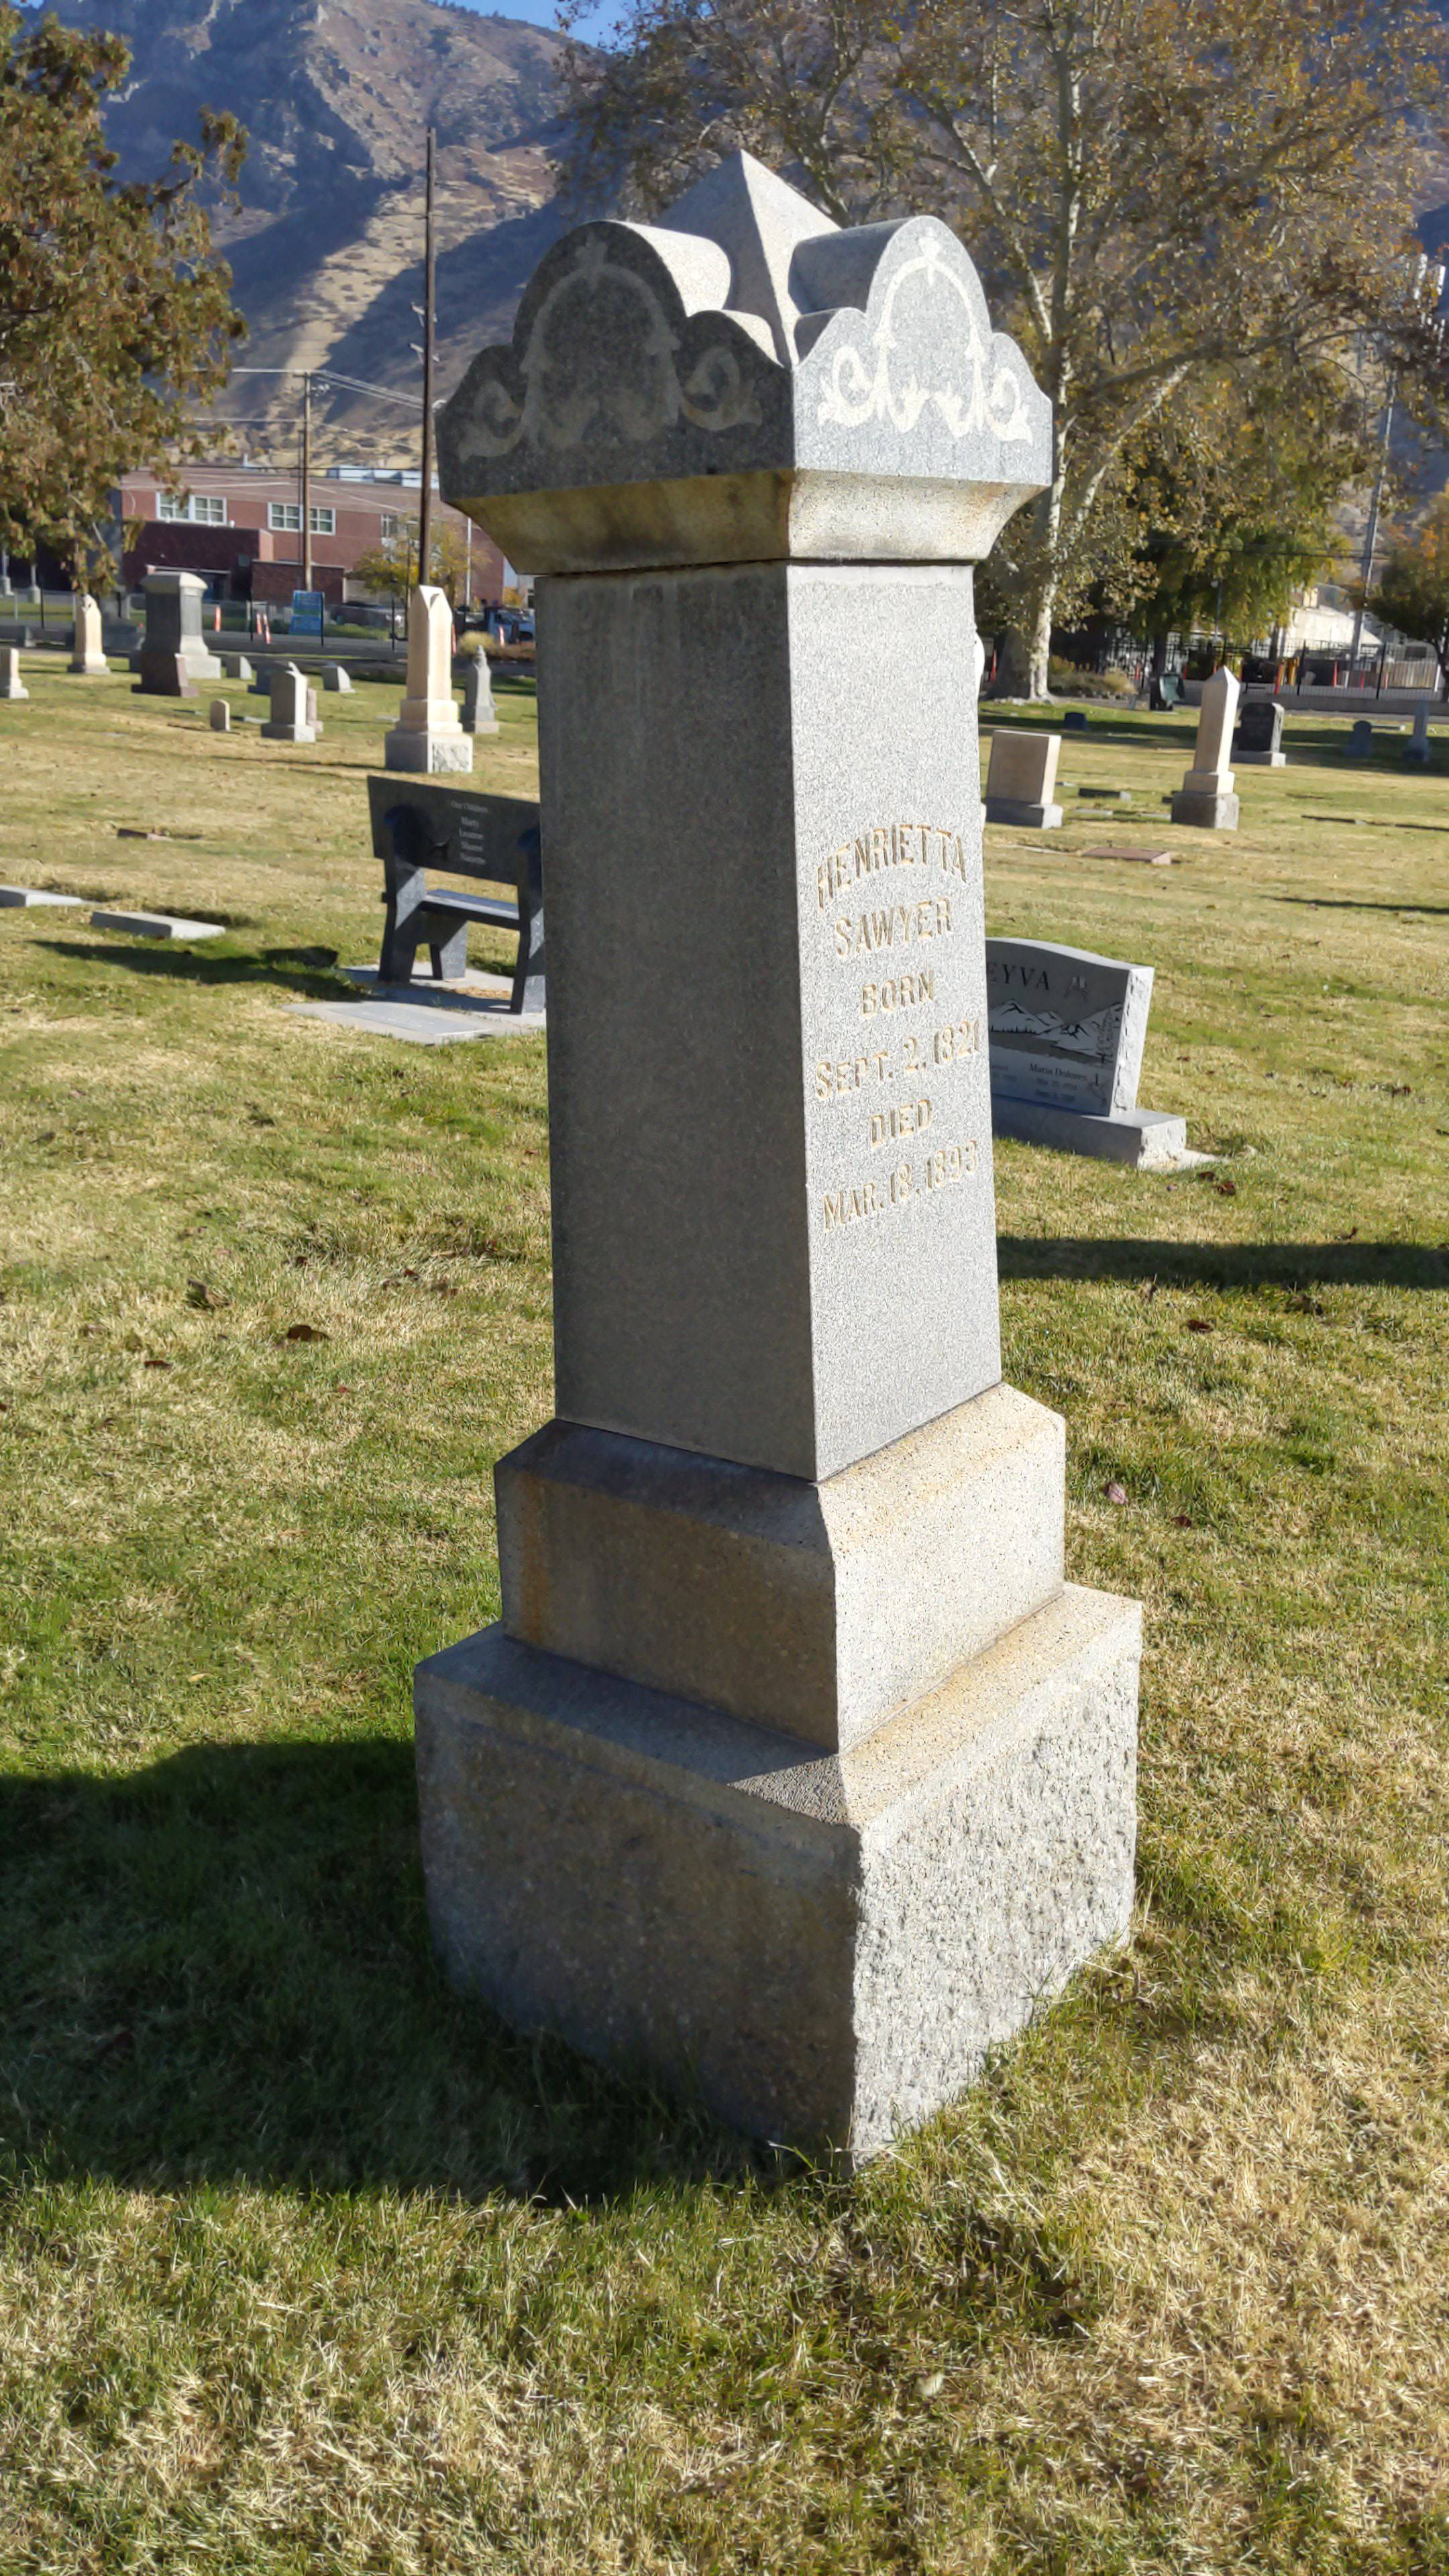obelisk: (441, 157, 1069, 1743)
